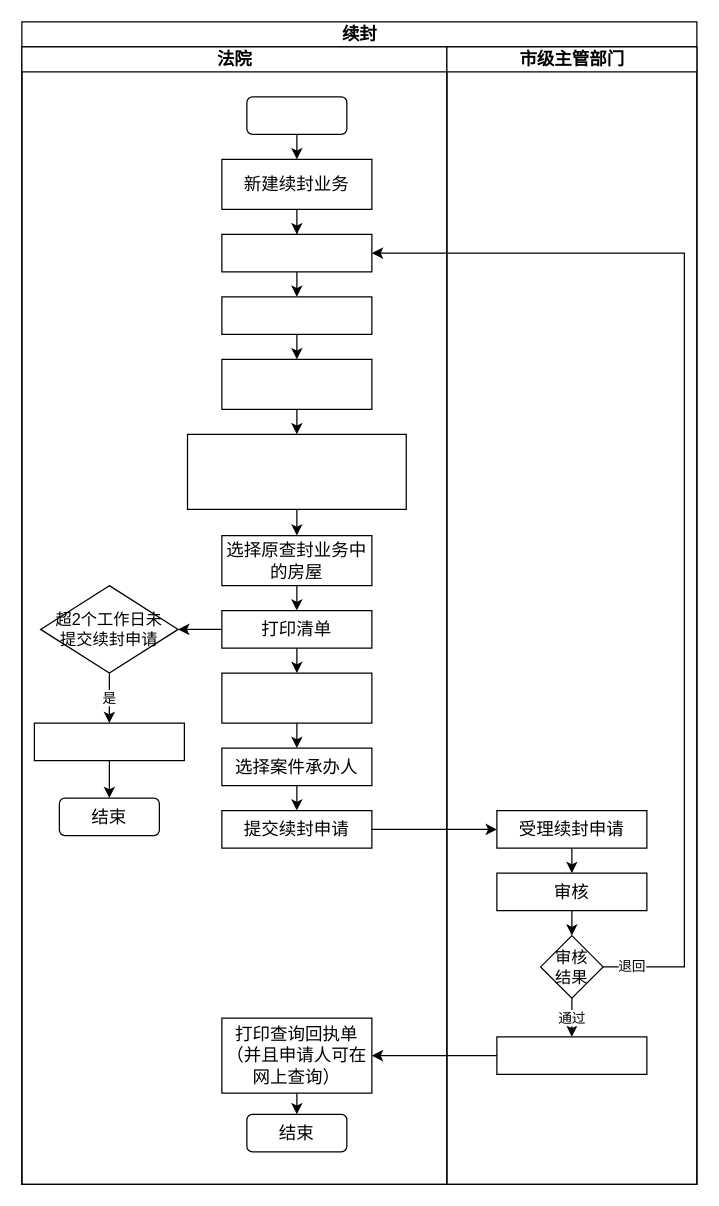
Image size: 719x1206. Some labels were removed from this diagram. The centre of each missing label's shape, as x and y in pixels:
上传查封文书: the point at 296,252
填写原查封案件号: the point at 296,315
填写申请执行人、被执行人: the point at 296,697
填写续封业务的查封期限、申请信息: the point at 296,383
开始: the point at 296,115
根据案件号、查封机关查询原查封业务，并选择原查封业务到续封业务中: the point at 296,471
生成查封回执单: the point at 571,1055
自动退件: the point at 108,741
